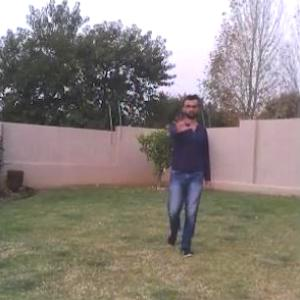follow_hand: (168, 107, 194, 133)
